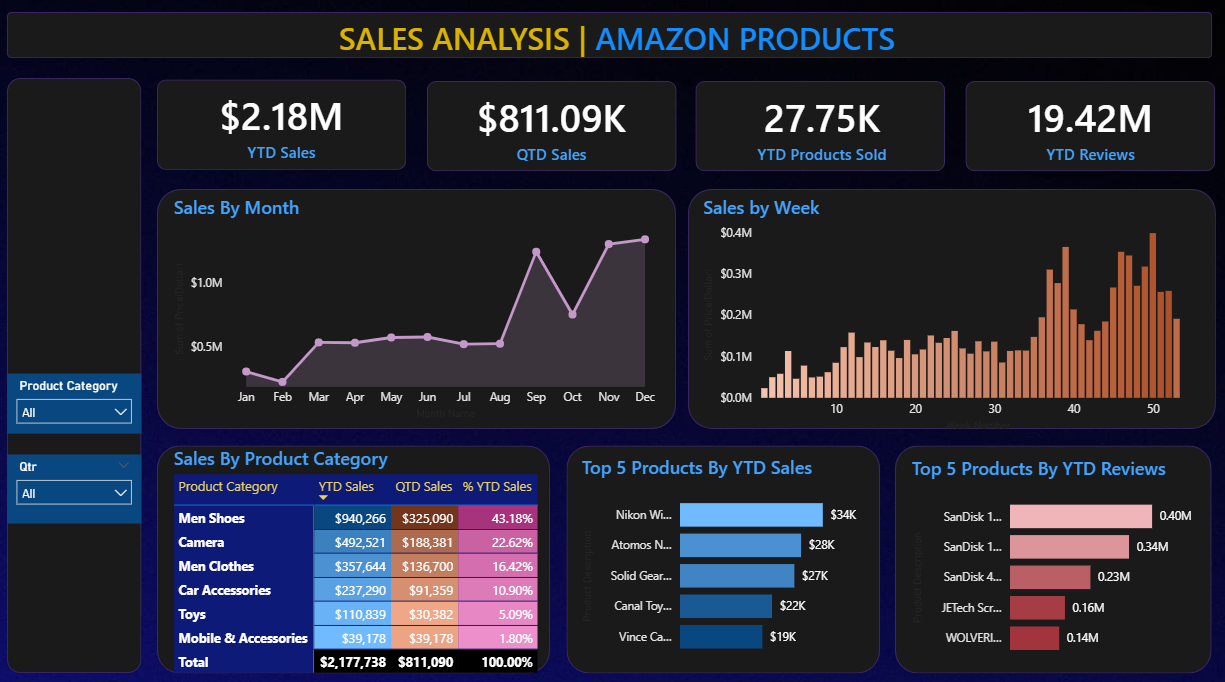

The dashboard page shown, as its layout file describes it:
{"tool":"powerbi","page":{"name":"Page 1","canvas":[1280,720],"ordinal":0},"visuals":[{"type":"shape","box":[9.6,15.4,1255.8,48.1],"z":0},{"type":"shape","box":[166,86,259.6,94.2],"z":1000},{"type":"textbox","box":[349.6,15.1,903.3,119.1],"z":2000},{"type":"card","fields":{"Values":["Amazon_Data.YTD Sales"]},"box":[164,84,262,96],"z":3000},{"type":"shape","box":[10,84,140,620],"z":4000},{"type":"shape","box":[446.6,87,260,94],"z":5000},{"type":"shape","box":[727.6,87,260,94],"z":6000},{"type":"shape","box":[1008.5,87,260,94],"z":7000},{"type":"card","fields":{"Values":["Amazon_Data.QTD Sales"]},"box":[446,88,262,94],"z":8000},{"type":"card","fields":{"Values":["Amazon_Data.YTD Products Sold"]},"box":[728.5,87,260,94],"z":9000},{"type":"card","fields":{"Values":["Amazon_Data.YTD Reviews"]},"box":[1008.5,87,260,94],"z":10000},{"type":"shape","box":[718.3,200,550,250],"z":11000},{"type":"shape","box":[165.7,200.1,540.8,250.1],"z":12000},{"type":"areaChart","title":"Sales By Month","fields":{"Category":["Date Table.Month Name"],"Y":["Sum(Amazon_Data.Price(Dollar))"]},"box":[178.2,206.3,515.8,237.6],"z":13000},{"type":"columnChart","title":" Sales by Week ","fields":{"Category":["Date Table.Week Number"],"Y":["Sum(Amazon_Data.Price(Dollar))"]},"box":[730,206.7,526.7,250],"z":14000},{"type":"shape","box":[165.7,467.3,409.5,237.6],"z":15000},{"type":"pivotTable","title":"Sales By Product Category","fields":{"Values":["Amazon_Data.YTD Sales1","Amazon_Data.QTD Sales","Amazon_Data.YTD Sales"],"Rows":["Amazon_Data.Product Category"]},"box":[178.2,467.3,397,248.5],"z":16000},{"type":"shape","box":[592.4,467.3,326.7,237.6],"z":17000},{"type":"shape","box":[934.7,467.3,329.8,237.6],"z":18000},{"type":"clusteredBarChart","title":"Top 5 Products By YTD Sales","fields":{"Category":["Amazon_Data.Product Description"],"Y":["Amazon_Data.YTD Sales"]},"box":[603.3,476.7,306.3,220.4],"z":19000},{"type":"clusteredBarChart","title":"Top 5 Products By YTD Reviews","fields":{"Category":["Amazon_Data.Product Description"],"Y":["Amazon_Data.YTD Reviews"]},"box":[947.2,478.3,306.3,220.4],"z":20000},{"type":"slicer","fields":{"Values":["Amazon_Data.Product Category"]},"box":[9.4,393.1,139.8,62.4],"z":21000},{"type":"slicer","fields":{"Values":["Date Table.Qtr"]},"box":[9.4,476.2,139.8,71.8],"z":22000}]}

Visuals, with their boxes in screenshot pixels (x1, y1, x2, y2), scaled from the page's 1280x720 canvas onto the 1225x682 screenshot:
shape: crop(9, 15, 1211, 60)
shape: crop(159, 81, 407, 171)
textbox: crop(335, 14, 1199, 127)
card - Amazon_Data.YTD Sales: crop(157, 80, 408, 170)
shape: crop(10, 80, 144, 667)
shape: crop(427, 82, 676, 171)
shape: crop(696, 82, 945, 171)
shape: crop(965, 82, 1214, 171)
card - Amazon_Data.QTD Sales: crop(427, 83, 678, 172)
card - Amazon_Data.YTD Products Sold: crop(697, 82, 946, 171)
card - Amazon_Data.YTD Reviews: crop(965, 82, 1214, 171)
shape: crop(687, 189, 1214, 426)
shape: crop(159, 190, 676, 426)
"Sales By Month" areaChart: crop(171, 195, 664, 420)
" Sales by Week " columnChart: crop(699, 196, 1203, 433)
shape: crop(159, 443, 550, 668)
"Sales By Product Category" pivotTable: crop(171, 443, 550, 678)
shape: crop(567, 443, 880, 668)
shape: crop(895, 443, 1210, 668)
"Top 5 Products By YTD Sales" clusteredBarChart: crop(577, 452, 871, 660)
"Top 5 Products By YTD Reviews" clusteredBarChart: crop(906, 453, 1200, 662)
slicer - Amazon_Data.Product Category: crop(9, 372, 143, 431)
slicer - Date Table.Qtr: crop(9, 451, 143, 519)
